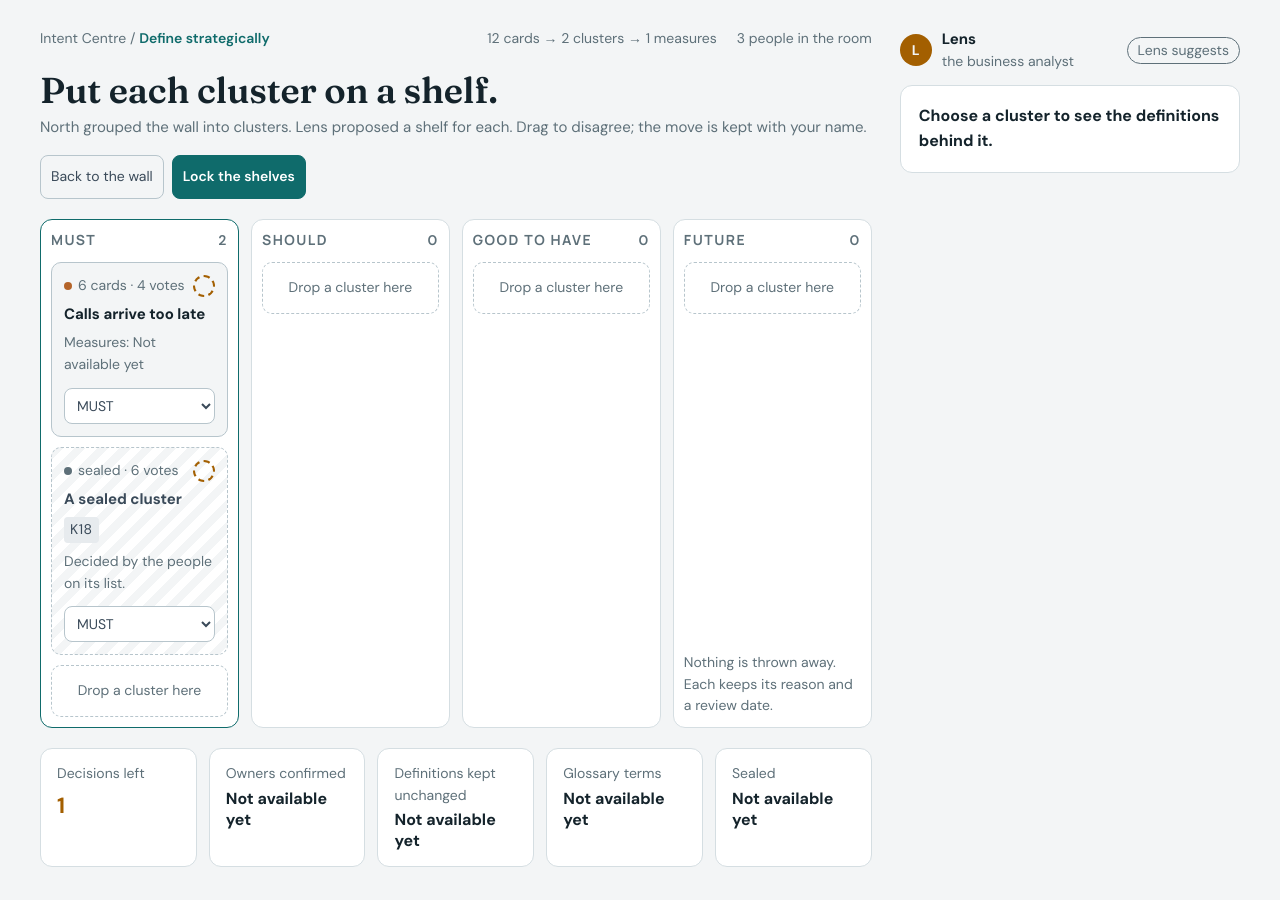
it: a sealed cluster shows as a silhouette: no words, sealed votes, its codes, and Lens shows no definitions
This screenshot has width=1280, height=900.
Click the button "A sealed cluster" at (139, 500), box [64,490,215,509]
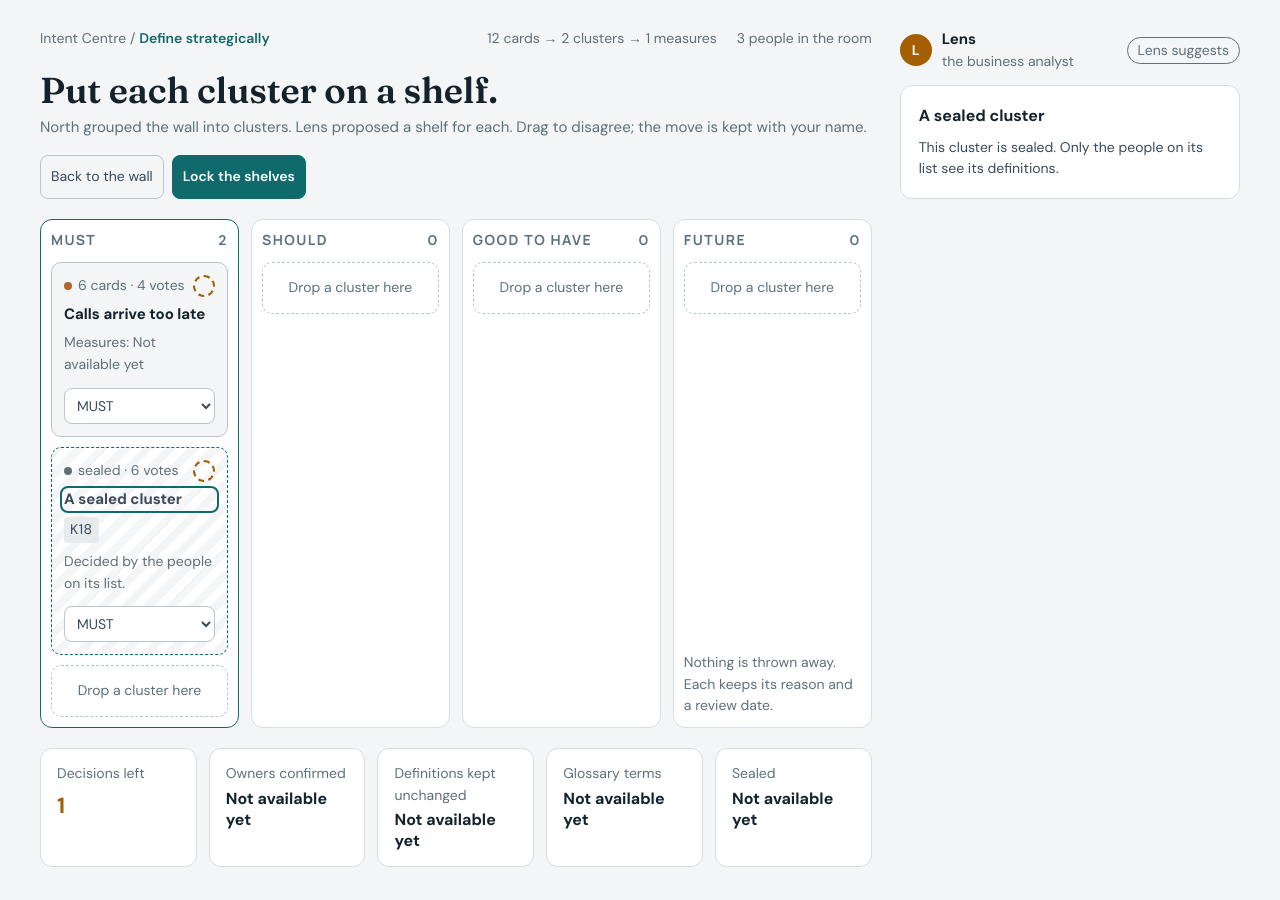
Check: the text "This cluster is sealed. Only the people on its list see its definitions." is shown, box [919,137,1221,180]
